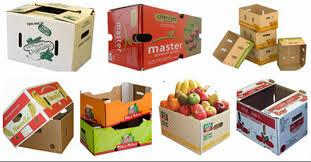Cardboard: (0, 0, 310, 155)
